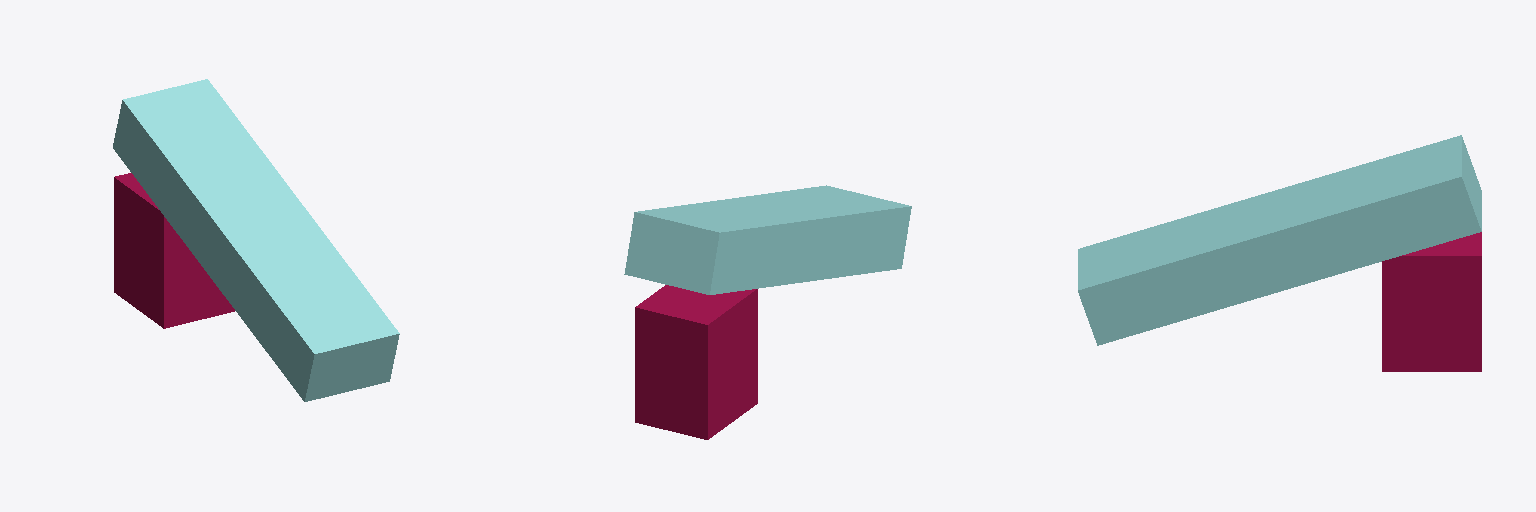
File: Three.obj
The picture shows the model from 3 angles: view 1: azimuth 30°, elevation 25°; view 2: azimuth 150°, elevation 25°; view 3: azimuth 270°, elevation 25°; orthographic projection.
Parts seen in each view (by area): view 1: Box001, Box002; view 2: Box001, Box002; view 3: Box001, Box002.
Part boxes in pixels (left/top/right/bottom): Box001: left=113, top=79, right=399, bottom=401; Box002: left=114, top=173, right=234, bottom=328; Box001: left=624, top=185, right=911, bottom=294; Box002: left=635, top=285, right=757, bottom=439; Box001: left=1078, top=135, right=1481, bottom=345; Box002: left=1382, top=232, right=1481, bottom=371.
Size of the model in its own units: 25.08 by 56.31 by 103.